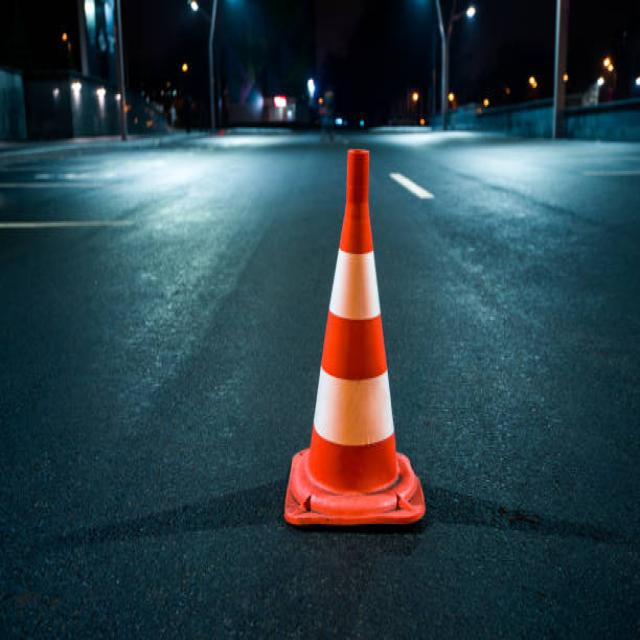Traffic Cone: (268, 126, 442, 542)
